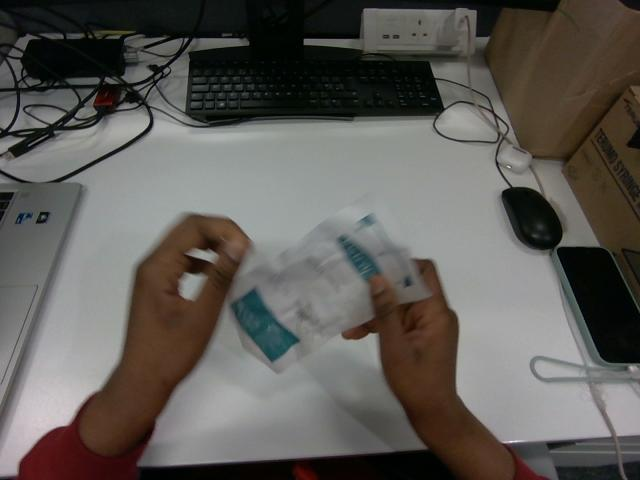gallipot: (229, 195, 430, 371)
